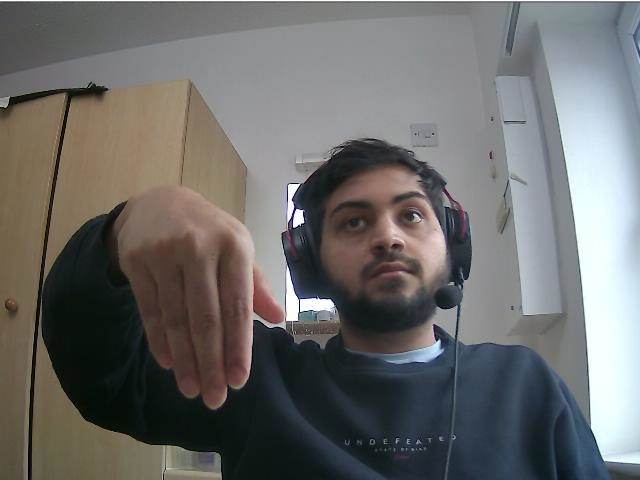down: (122, 189, 285, 411)
